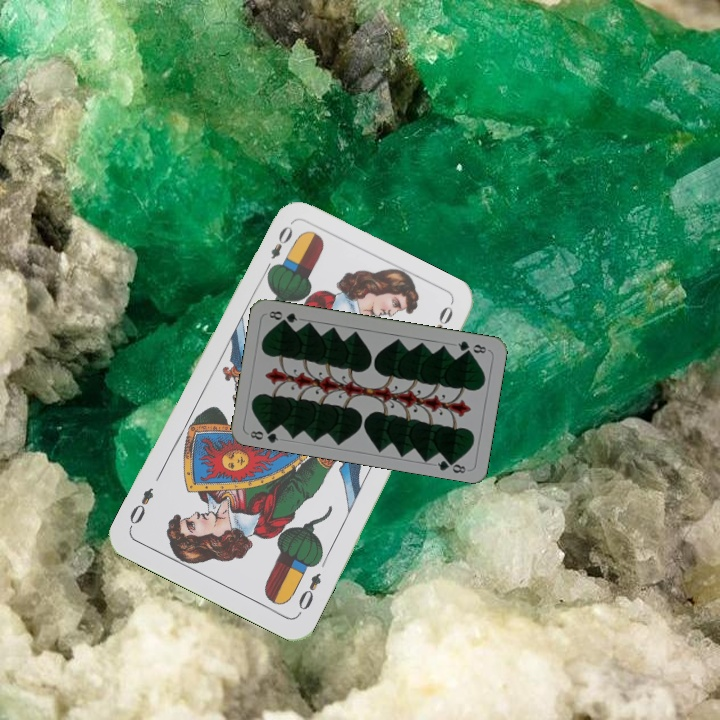EO: (260, 222, 296, 276), (294, 568, 324, 618)
G8: (246, 424, 281, 445), (454, 337, 489, 356)
